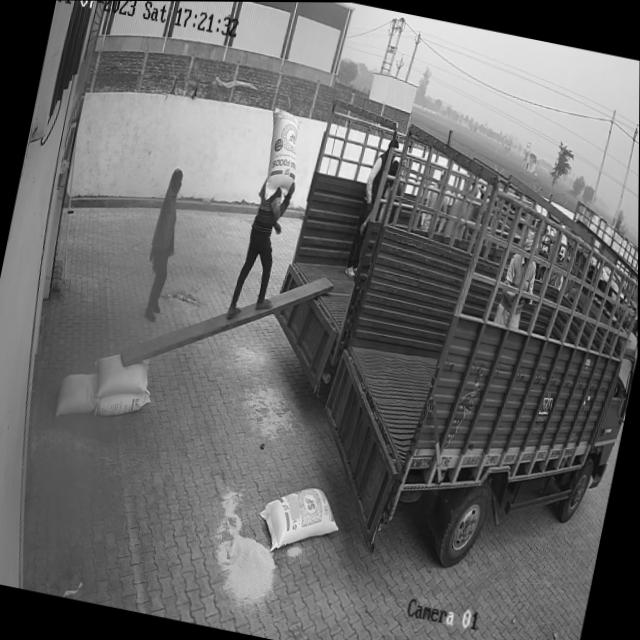sack: (254, 478, 346, 562), (255, 104, 307, 205), (90, 349, 153, 407), (53, 366, 102, 422), (97, 385, 151, 424)
